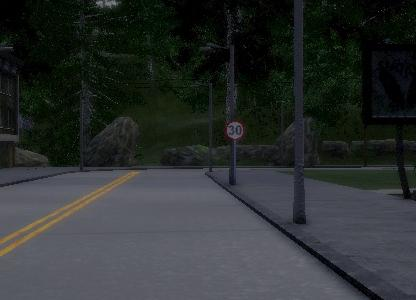Speed_30: (225, 120, 246, 143)
